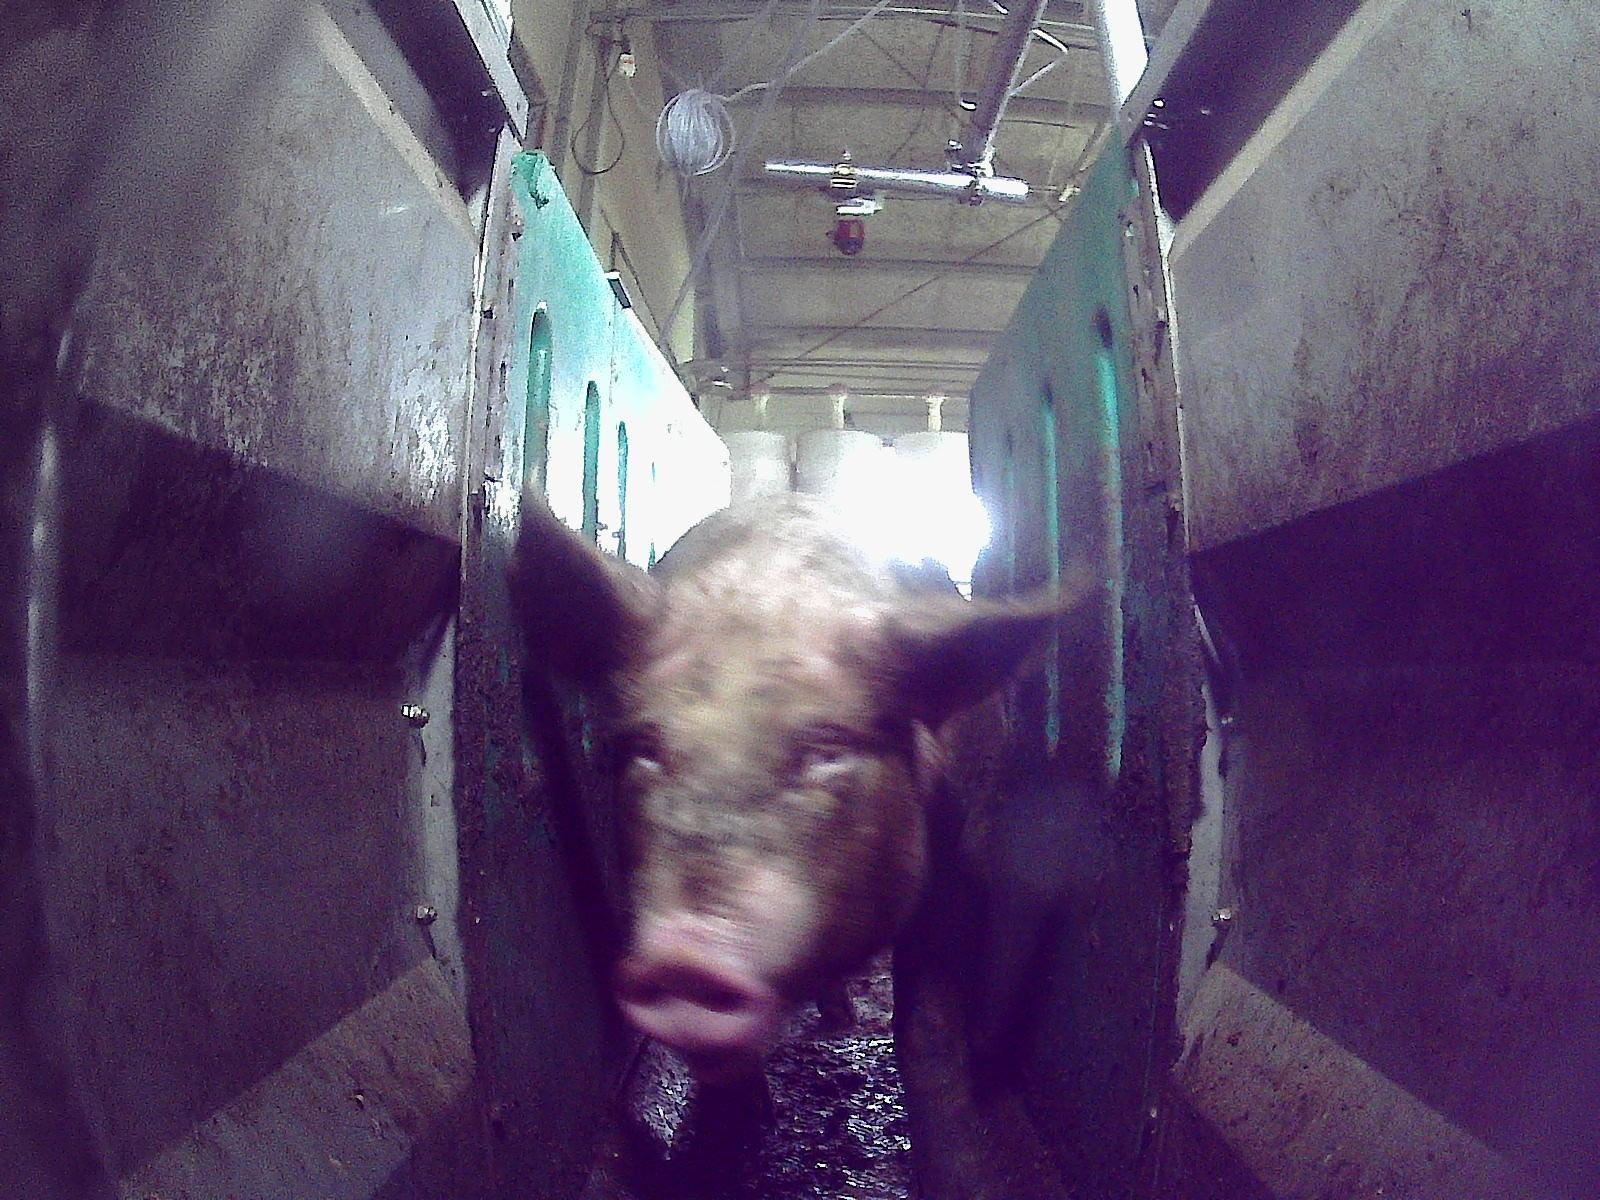Face: (604, 613, 929, 1064)
